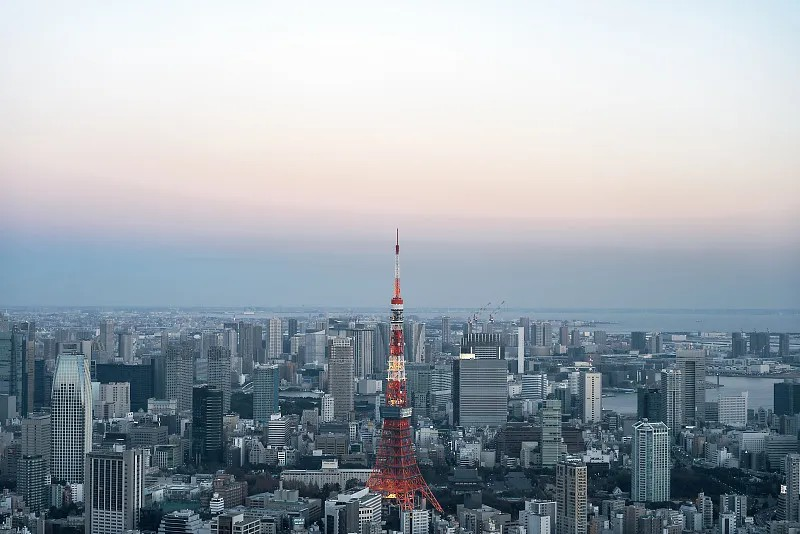Tokyo: (361, 224, 447, 518)
